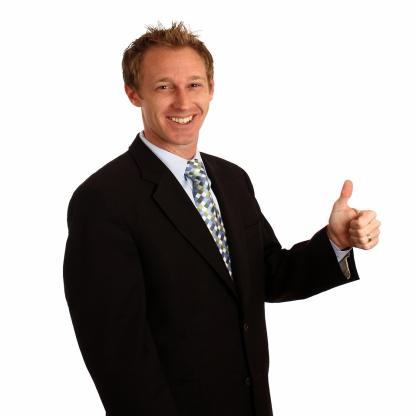Thumbs-Up: (310, 169, 402, 259)
